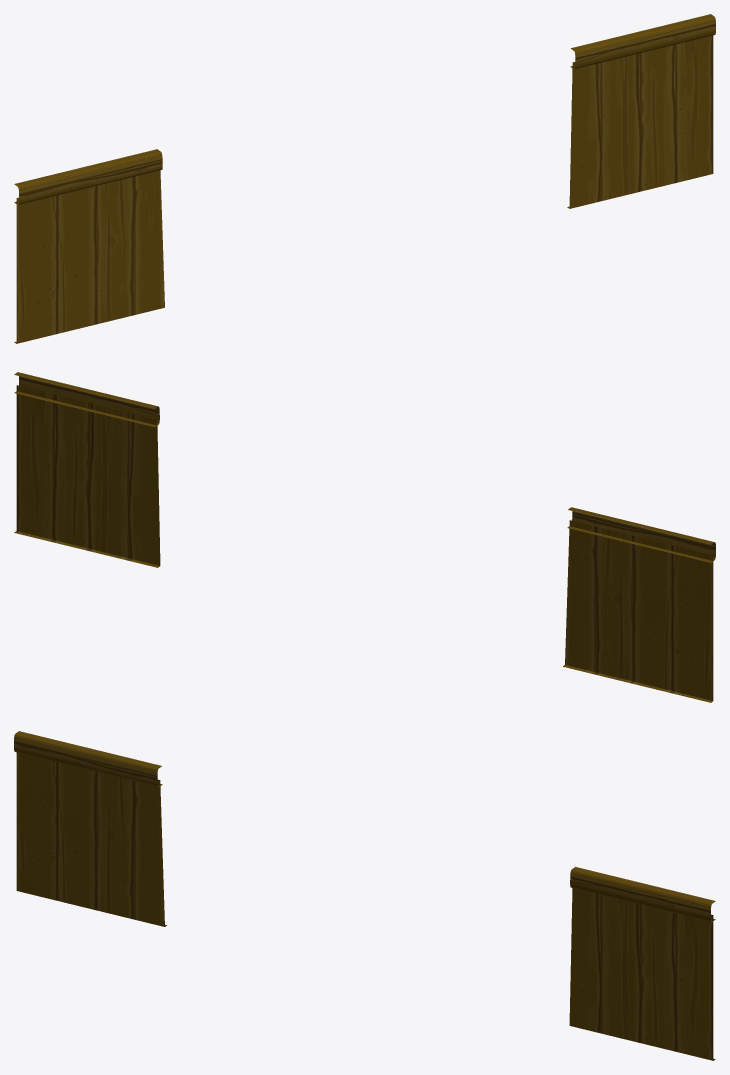
The model's file is SM_wooden_panel_04.glb.
3 renders of one model, top to bottom at view 1: azimuth 30°, elevation 25°; view 2: azimuth 150°, elevation 25°; view 3: azimuth 330°, elevation 25°, orthographic.
Parts seen in each view (by area): view 1: SM_wooden_panel_04; view 2: SM_wooden_panel_04; view 3: SM_wooden_panel_04.
Boxes of the visible parts, box(x1,y1,x2,y2) form: SM_wooden_panel_04: box(14, 14, 715, 343); SM_wooden_panel_04: box(14, 372, 715, 702); SM_wooden_panel_04: box(14, 731, 715, 1060).
Bounding box in the file's own units: 6 × 1.3 × 0.075.
1 material, 1 textured.
